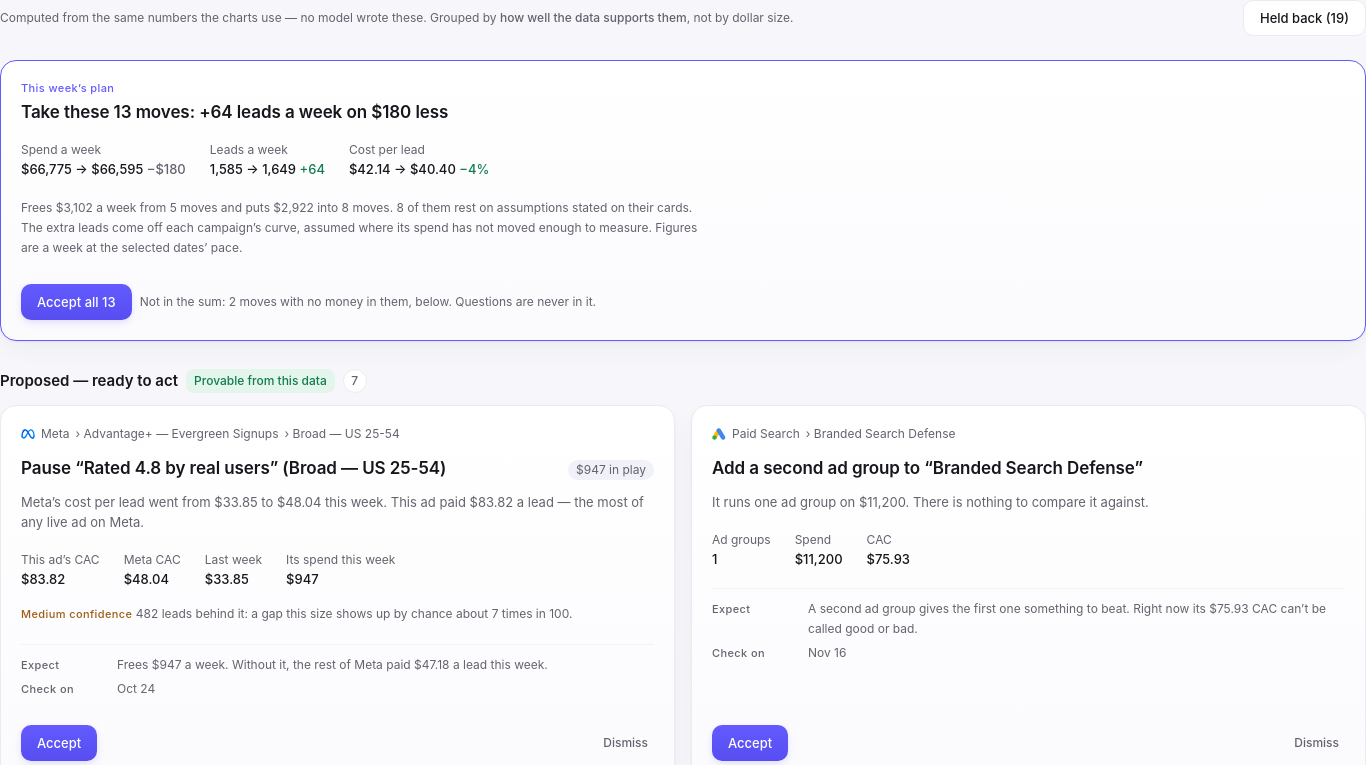
Scenario: ⭐ the plan card › "Accept all" takes every move with money in it, and the plan empties
This screenshot has width=1366, height=765.
Click the button "Accept all 13": (76, 302) [21,284,132,320]
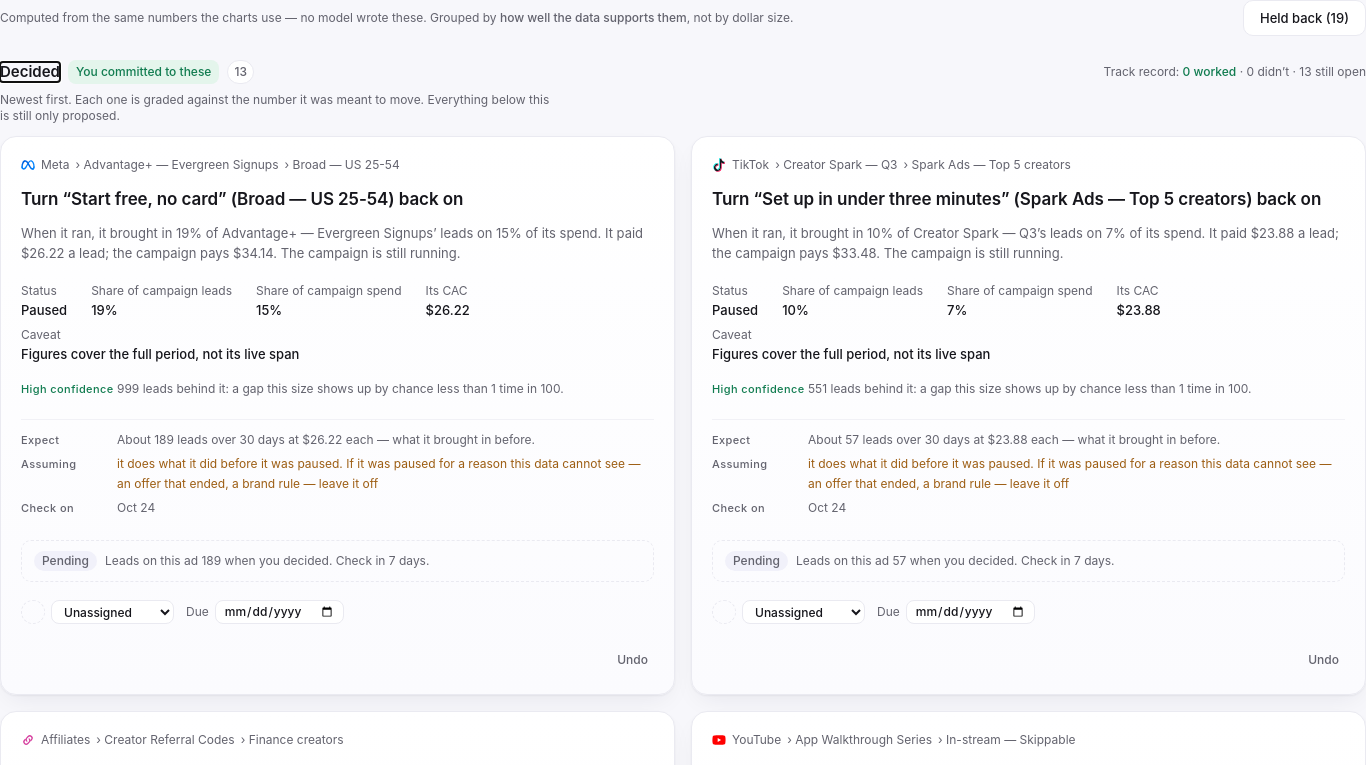
Result: the text "This week’s plan" is gone
